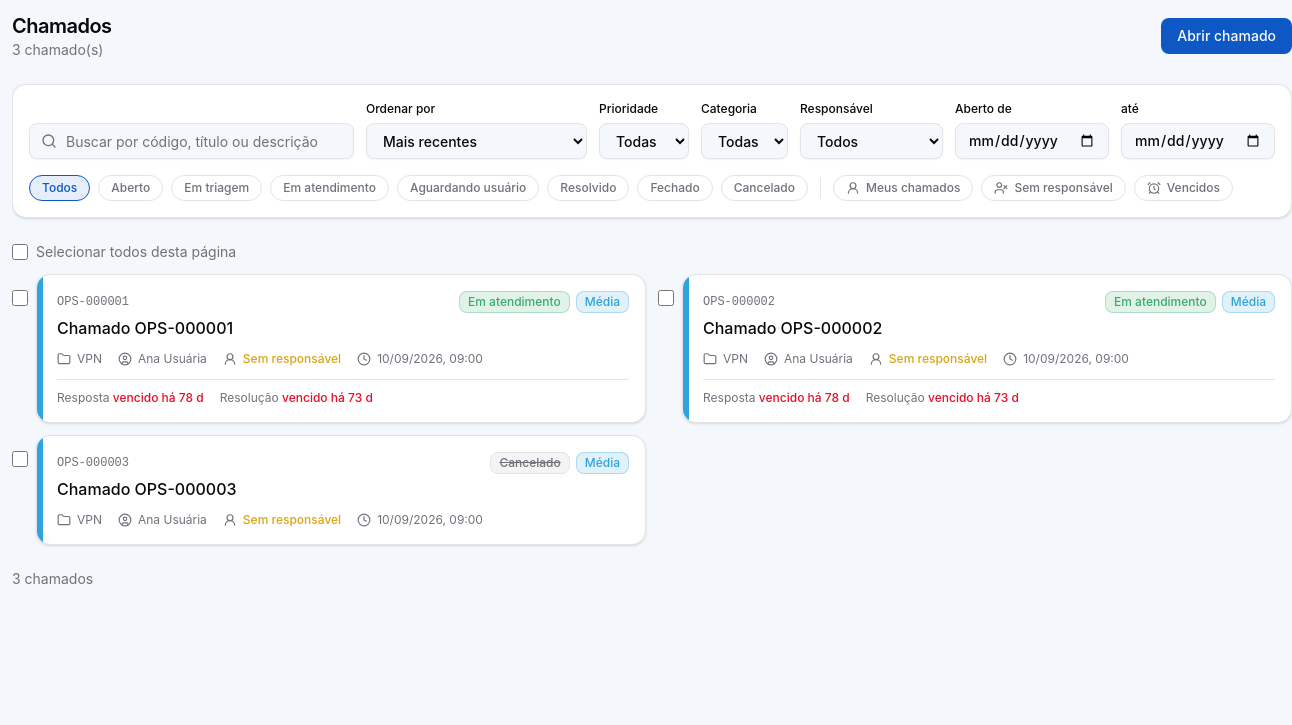
mudança de status em lote › fecha os selecionados depois da confirmação e mantém selecionado o que não mudou
Click the checkbox labelled "Selecionar todos desta página". click: [20, 252]
box: [12, 244, 28, 260]
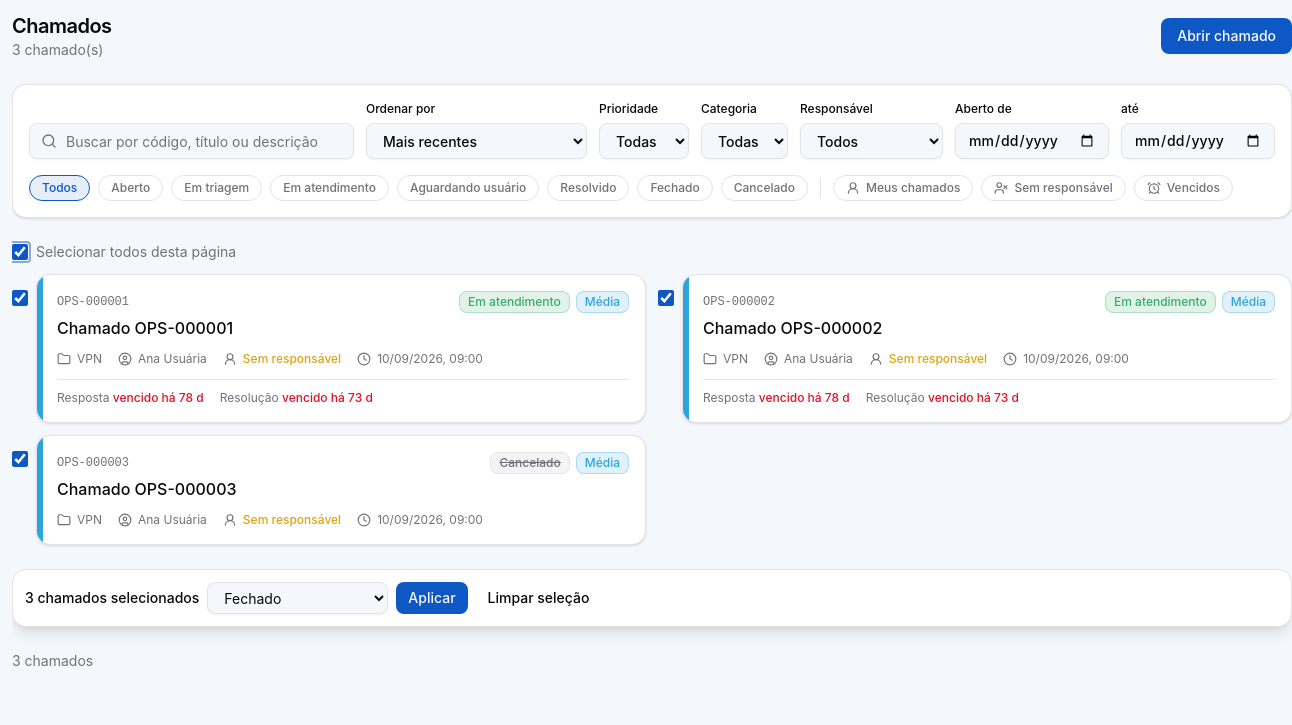
Check: the text "3 chamados selecionados" is shown, box [25, 588, 199, 608]
// O primeiro clique só arma: nada vai para o servidor sem a confirmação.
Click the button "Aplicar". click: [432, 598]
box: [396, 582, 468, 614]
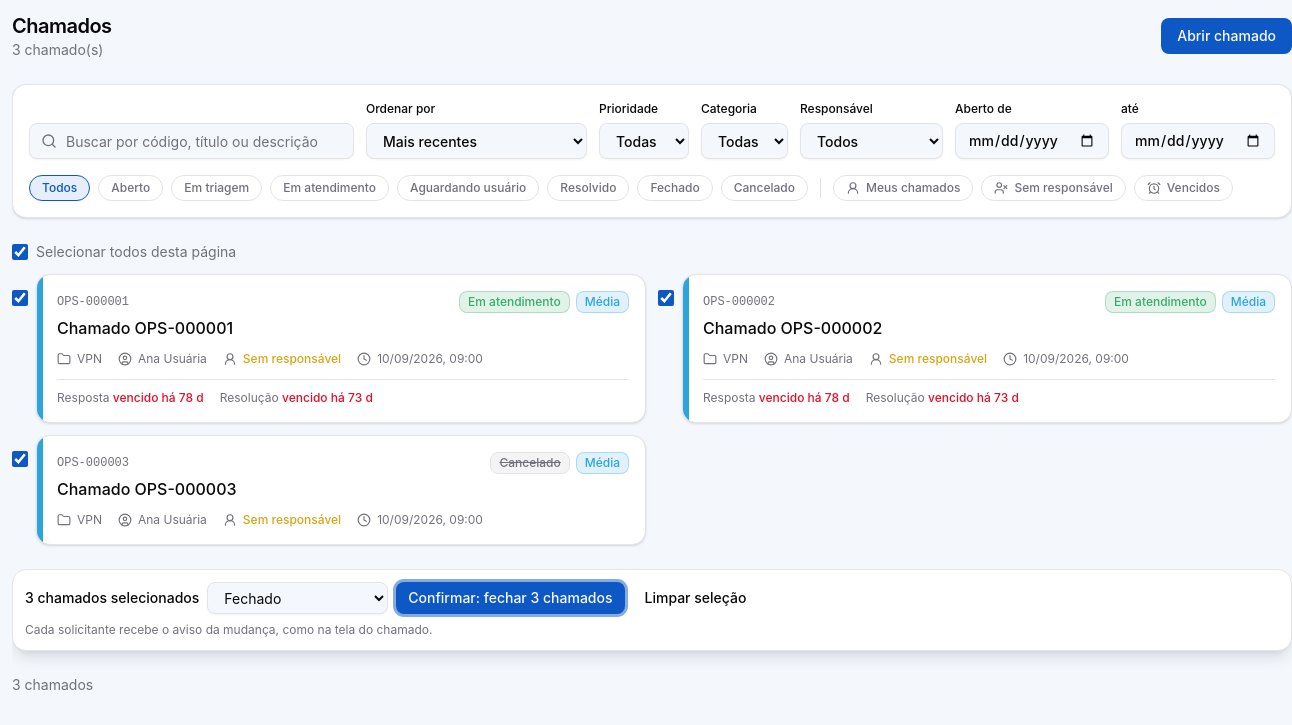
Click the button "Confirmar: fechar 3 chamados". click: [510, 598]
box: [396, 582, 624, 614]
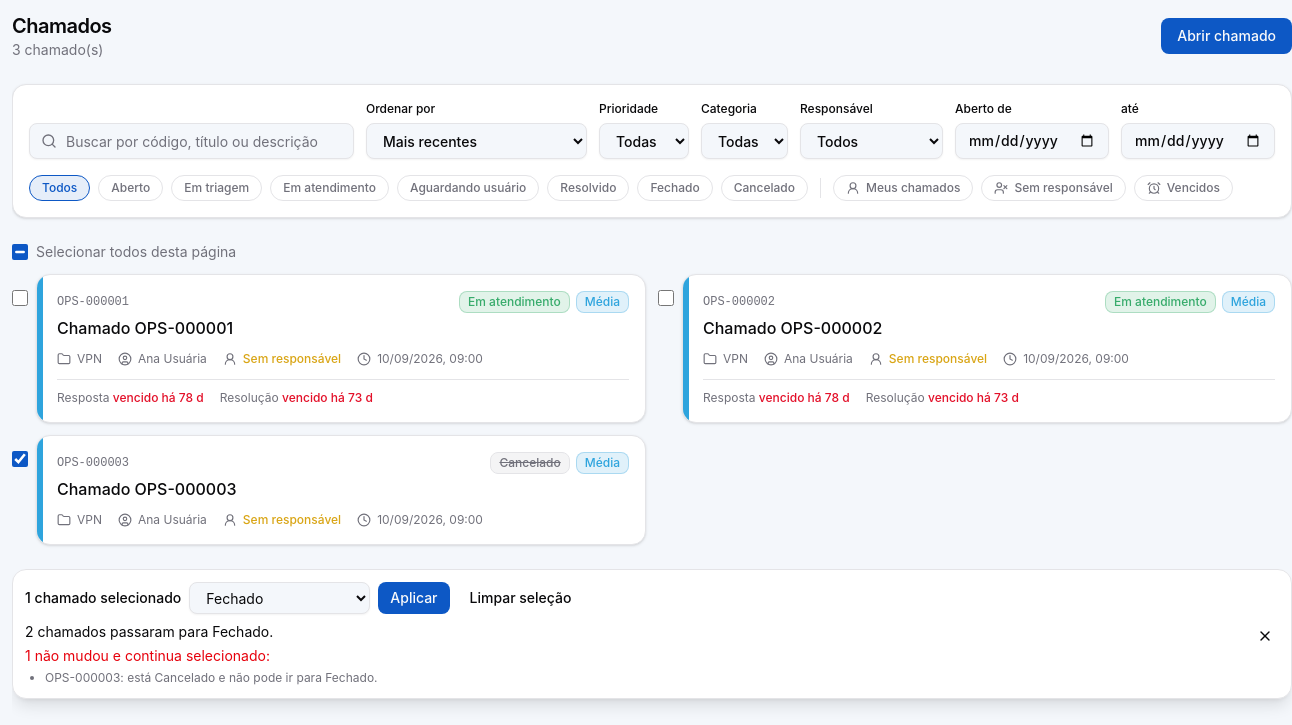
Check: the text "2 chamados passaram para Fechado." is shown, box [25, 623, 273, 640]
Check: the list item "OPS-000003: está Cancelado e não pode ir para Fechado." is shown, box [45, 670, 378, 686]
Check: the text "1 chamado selecionado" is shown, box [25, 588, 181, 608]
